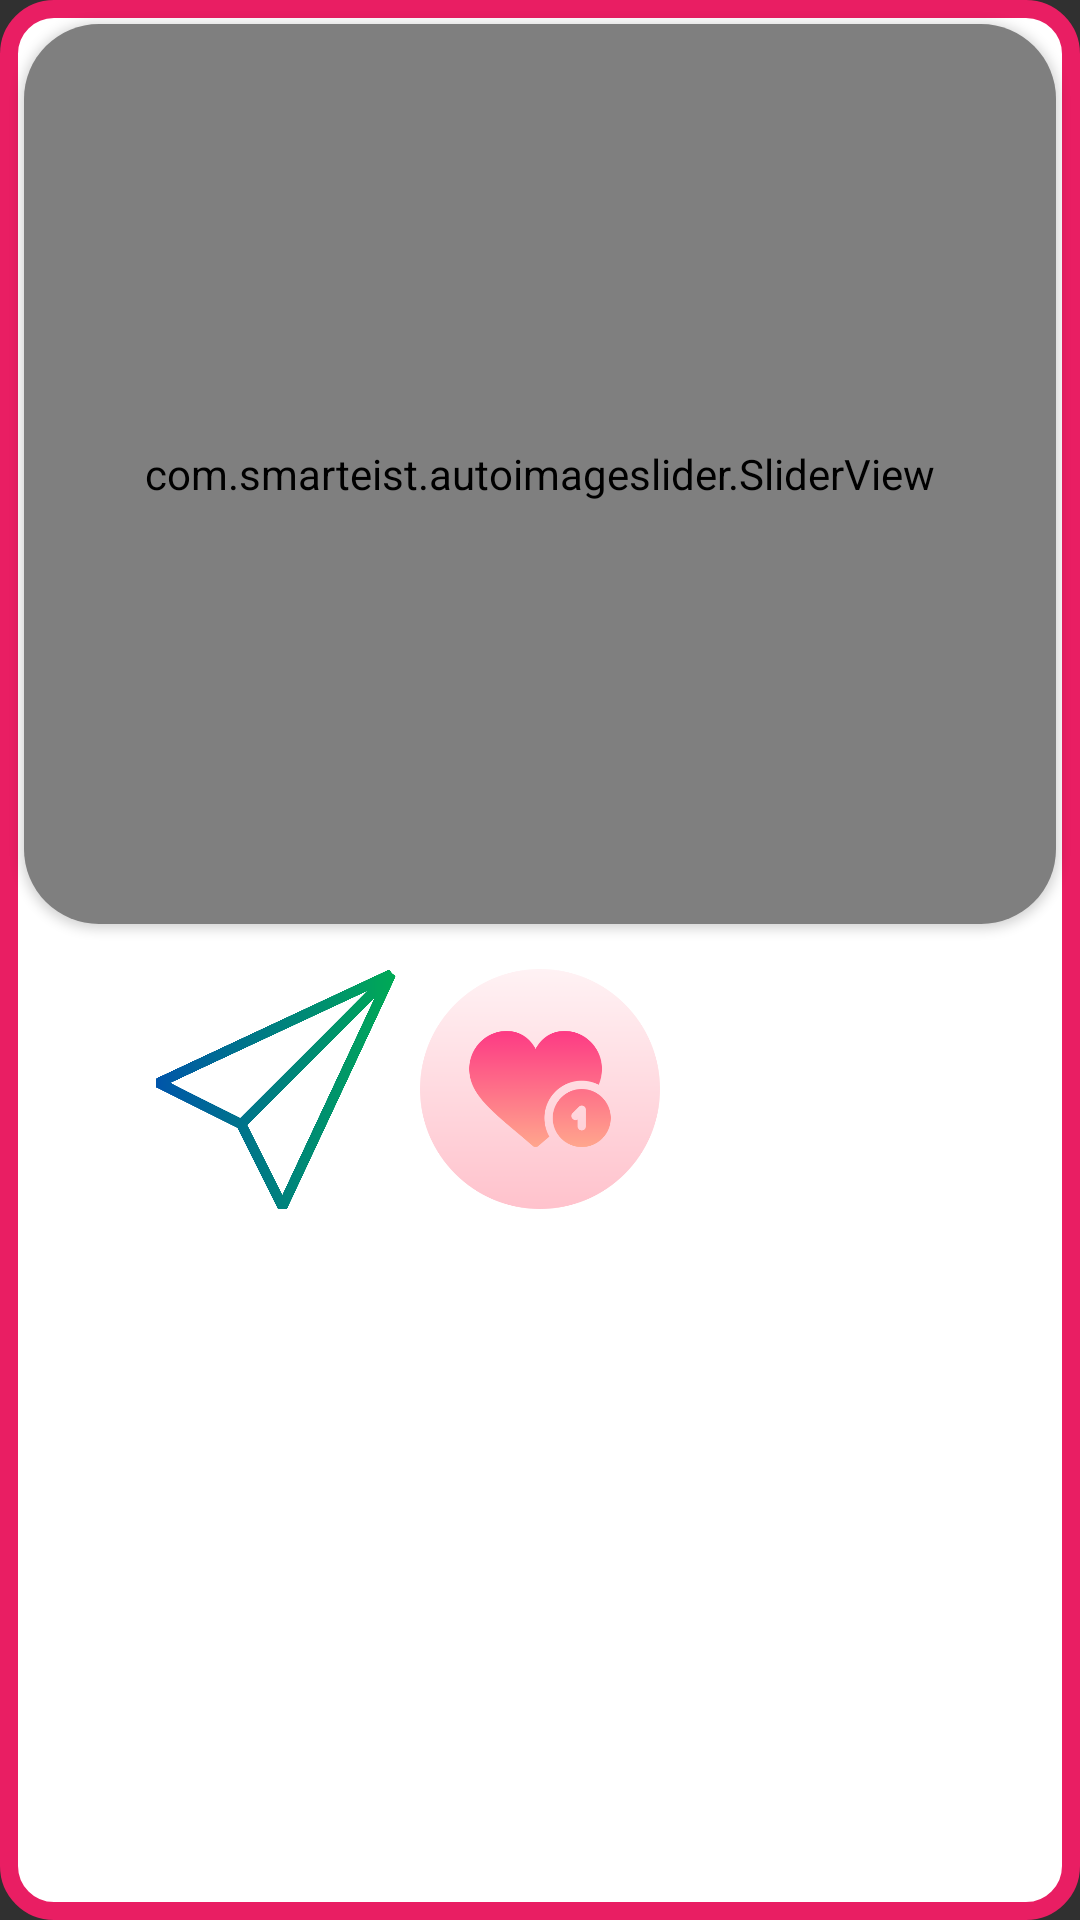

Where icons sit on this 1080×1920 app screen, as (x1, y1, x2, y2):
heart: (420, 1026, 660, 1209)
